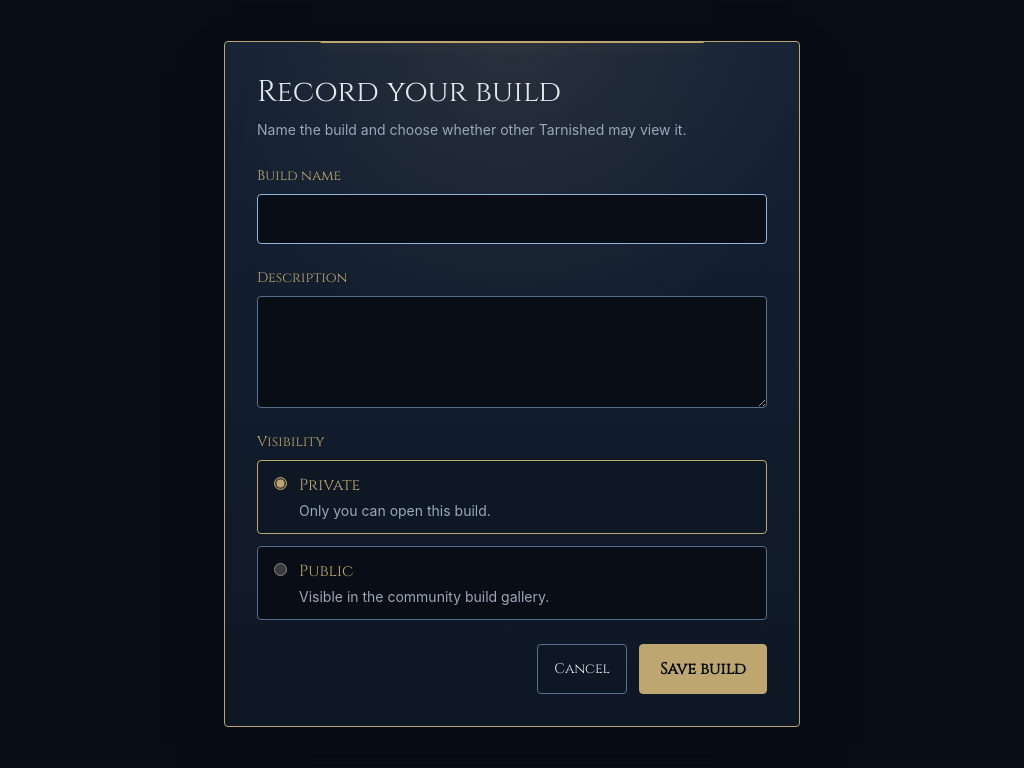
Test: BuildSaveDialog › keeps focus in the dialog when the name is empty
Click the button "Save build" at {"x": 703, "y": 669}, box [639,644,767,694]
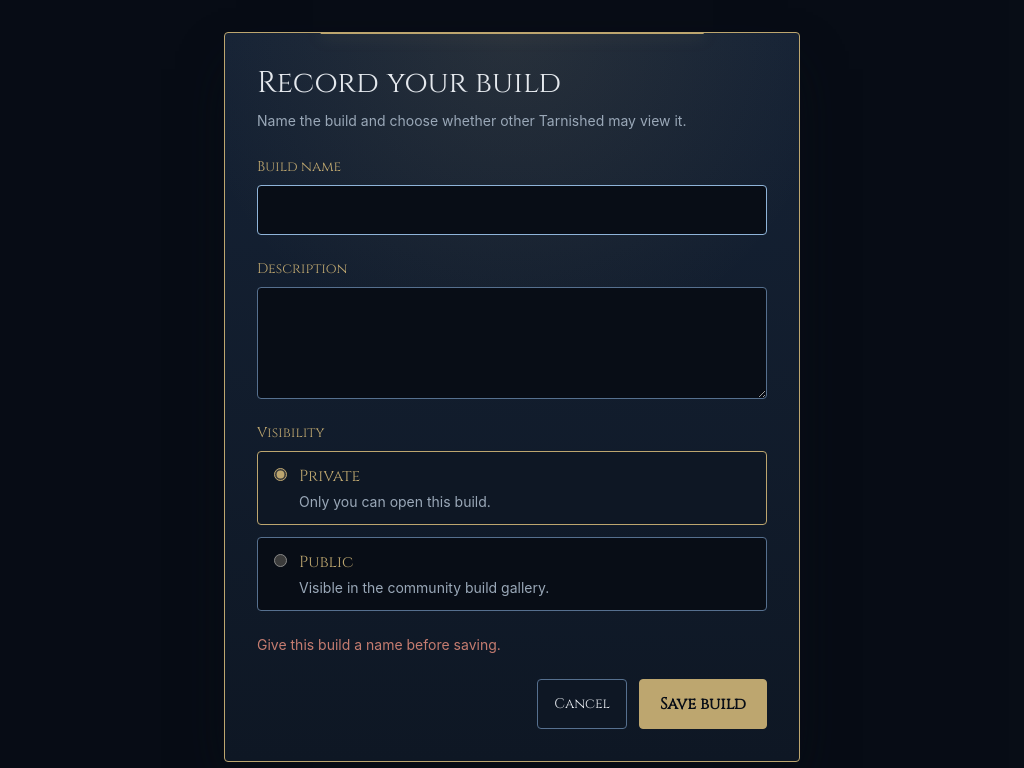
Check: the message shows "Give this build a name", box [257,636,501,653]
